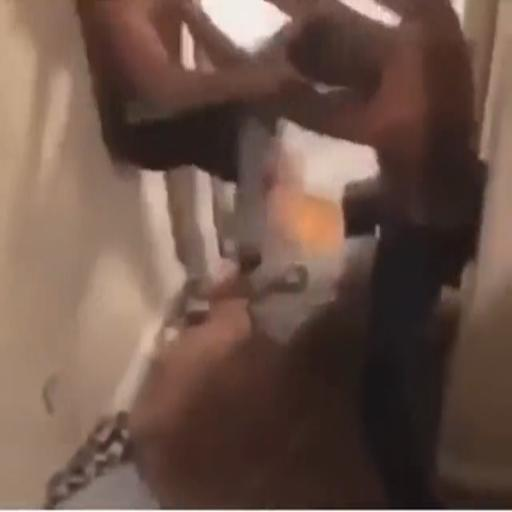violencia: (61, 0, 499, 476)
